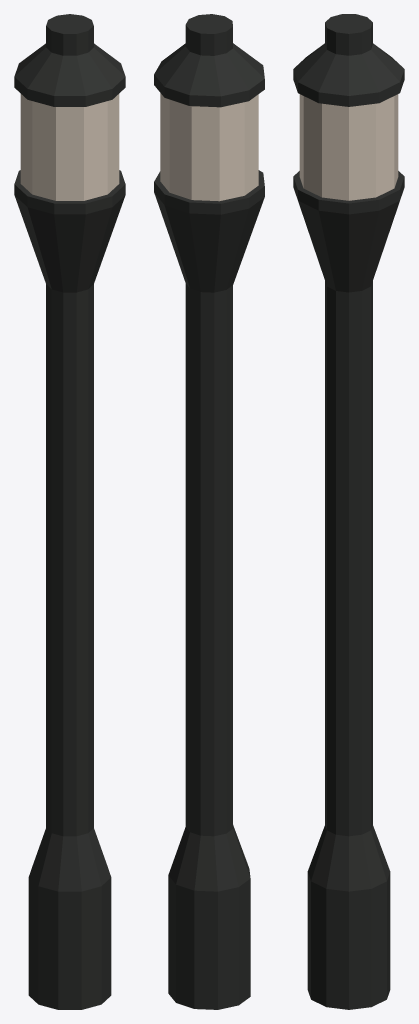
File: lamp.fbx
The picture shows the model from 3 angles, left to right: view 1: azimuth 90°, elevation 25°; view 2: azimuth 150°, elevation 25°; view 3: azimuth 270°, elevation 25°; orthographic projection.
Visible parts, largest first — view 1: Lamp; view 2: Lamp; view 3: Lamp.
Part boxes in pixels (x1,y1,x2,y2): Lamp: [14, 14, 125, 1009]; Lamp: [154, 14, 264, 1009]; Lamp: [293, 14, 404, 1009].
Size of the model in its own units: 27.39 by 266 by 27.68.
